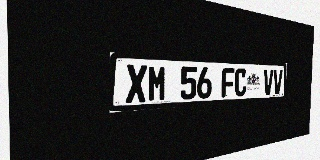5: (180, 66, 197, 100)
6: (197, 67, 212, 99)
C: (234, 68, 247, 97)
F: (221, 68, 235, 97)
M: (147, 65, 167, 102)
V: (263, 69, 273, 95), (273, 69, 283, 94)
X: (126, 64, 147, 103)
